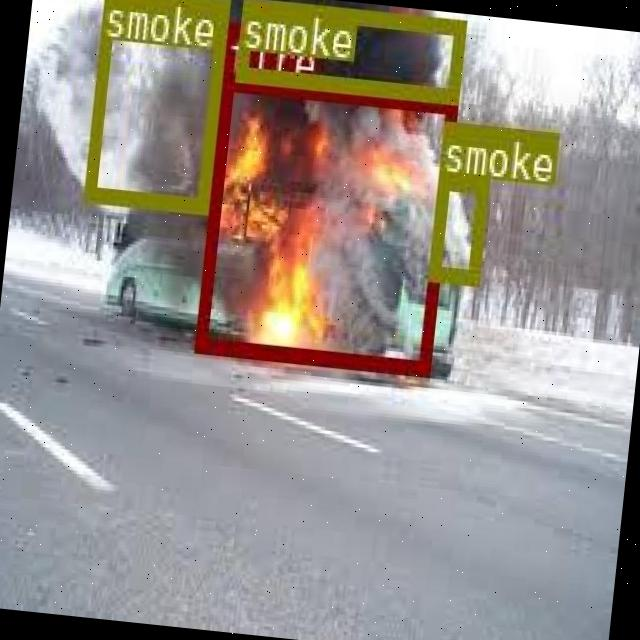fire: (194, 71, 456, 372)
smoke: (81, 0, 227, 210), (233, 0, 463, 101), (426, 172, 488, 280)
